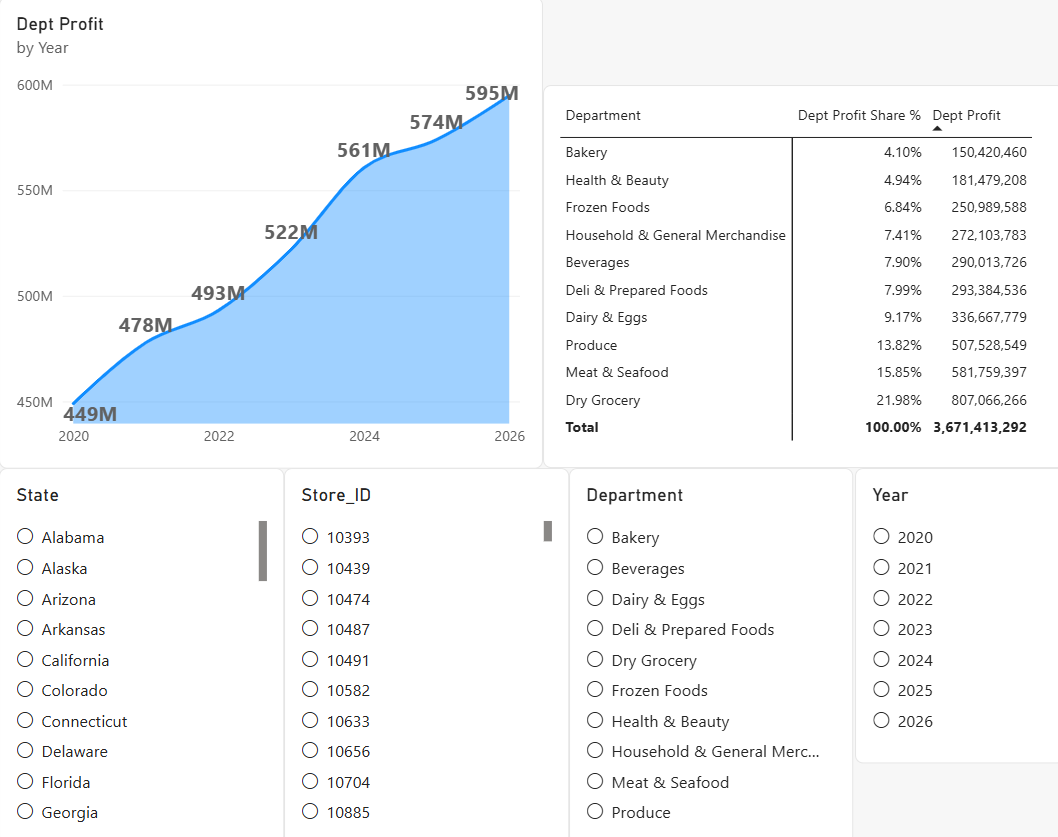

This screenshot's page, from the dashboard's own definition file:
{"tool":"powerbi","page":{"name":"Page 3","canvas":[1920,1080],"ordinal":2},"visuals":[{"type":"listSlicer","fields":{"Values":["Departments.Department"]},"box":[1007.5,626.7,279.4,368.9],"z":0},{"type":"listSlicer","fields":{"Values":["supermarket_flat.Store_ID"]},"box":[727,626.7,280.4,368.9],"z":1},{"type":"listSlicer","fields":{"Values":["supermarket_flat.State"]},"box":[447.6,626.7,280.4,368.9],"z":2},{"type":"areaChart","fields":{"Category":["supermarket_flat.Year"],"Y":["supermarket_flat.Dept Profit"]},"box":[447.6,164,533.9,462.7],"z":3},{"type":"pivotTable","fields":{"Rows":["Departments.Department"],"Values":["supermarket_flat.Dept Profit Share %","supermarket_flat.Dept Profit","supermarket_flat.Dept Profit Share YoY %"]},"box":[982,250,658,377],"z":4},{"type":"listSlicer","fields":{"Values":["supermarket_flat.Year"]},"box":[1287.9,626.7,206,290.2],"z":5}]}

Visuals, with their boxes on the page's 1920x1080 design canvas (x1, y1, x2, y2). These are canvas units, not pixel positions in the 1058x837 screenshot, which may show the page scaled, cropped or inside an application window:
listSlicer - Departments.Department: 1008:627:1287:996
listSlicer - supermarket_flat.Store_ID: 727:627:1007:996
listSlicer - supermarket_flat.State: 448:627:728:996
areaChart - supermarket_flat.Year x supermarket_flat.Dept Profit: 448:164:982:627
pivotTable - Departments.Department x supermarket_flat.Dept Profit Share %: 982:250:1640:627
listSlicer - supermarket_flat.Year: 1288:627:1494:917
